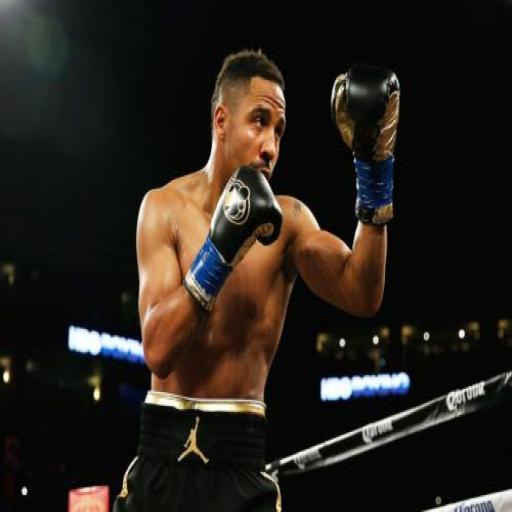boxing: (108, 48, 402, 510)
